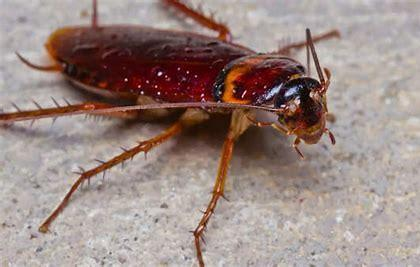cockroach: (9, 1, 351, 254)
